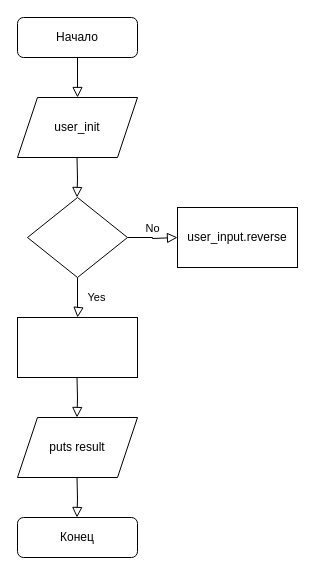
The diagram is 315 pixels wide and 575 high, and some of its shapes have lost their labels. Each missing label, with the centre of its shape:
"Слово заканчивается на 'CS'?": [77,237]
2**user_input.length: [77,347]
